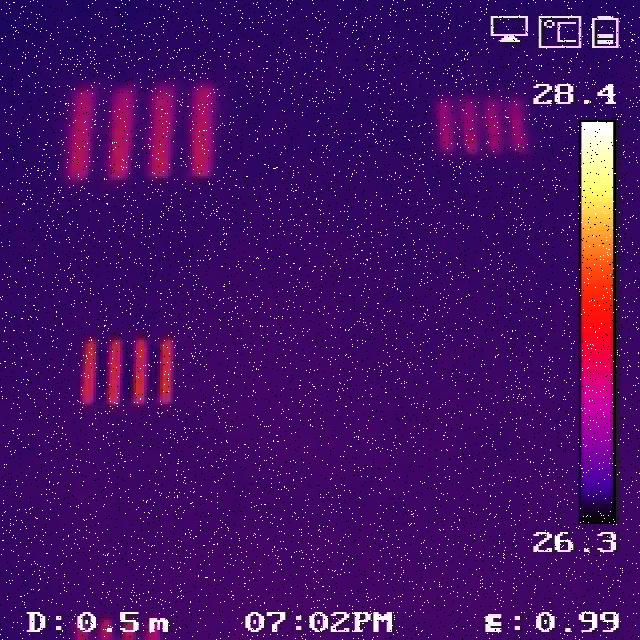Distinguishable 4-bar target: (61, 74, 223, 182), (75, 335, 181, 409), (432, 92, 533, 154)
